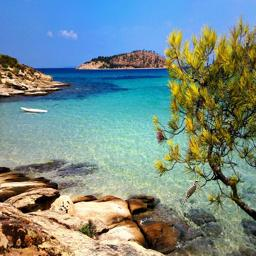Cuckoo: (181, 180, 201, 208)
